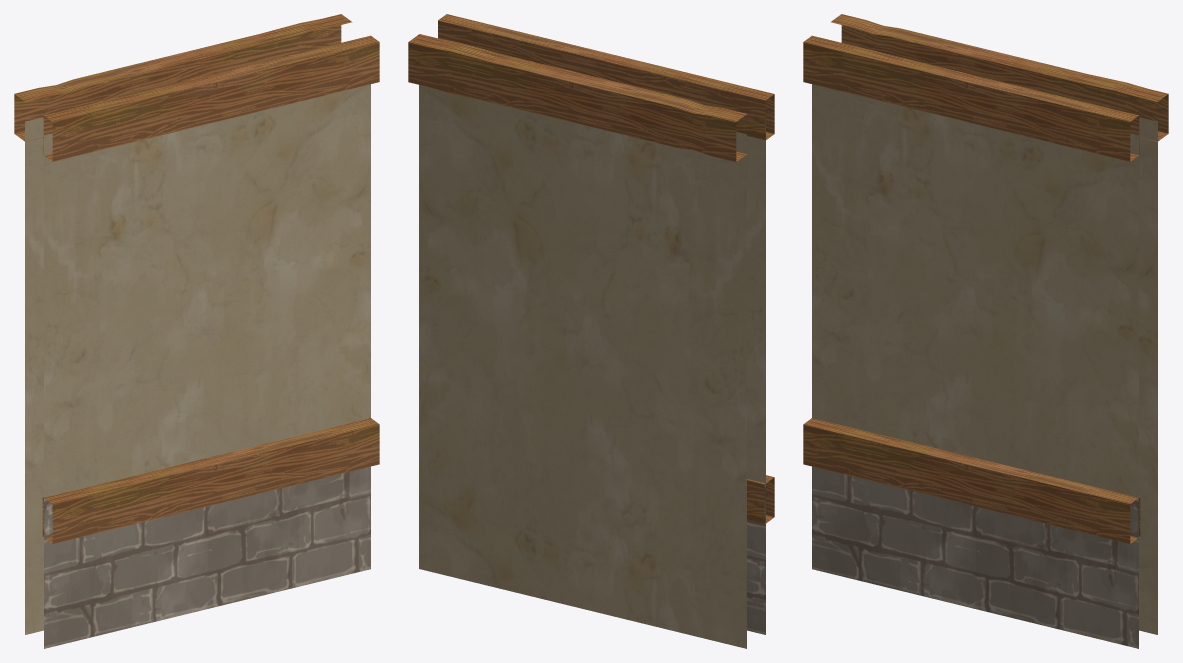
Rendered from Wall_Plaster_Straight_Base.gltf.
3 views of the same model, side by side, from view 1: azimuth 30°, elevation 25°; view 2: azimuth 150°, elevation 25°; view 3: azimuth 330°, elevation 25° (orthographic).
Visible parts, largest first — view 1: Wall_Plaster_Straight_Base; view 2: Wall_Plaster_Straight_Base; view 3: Wall_Plaster_Straight_Base.
Boxes of the visible parts, <box> form: Wall_Plaster_Straight_Base: <box>14,14,379,648</box>; Wall_Plaster_Straight_Base: <box>408,14,774,648</box>; Wall_Plaster_Straight_Base: <box>803,14,1168,648</box>.
Bounding box in the file's own units: 2 × 3.12 × 0.4065.
Materials: 3 (3 with a texture image).
